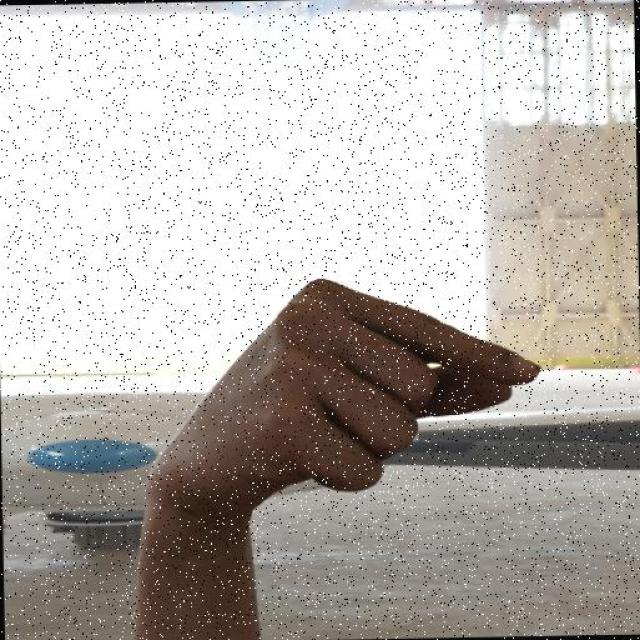G: (140, 272, 545, 537)
